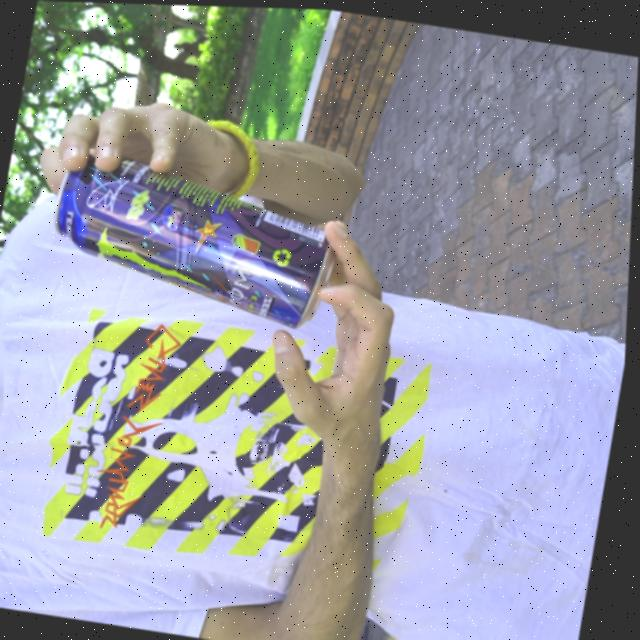Monster LH44: (45, 143, 341, 334)
